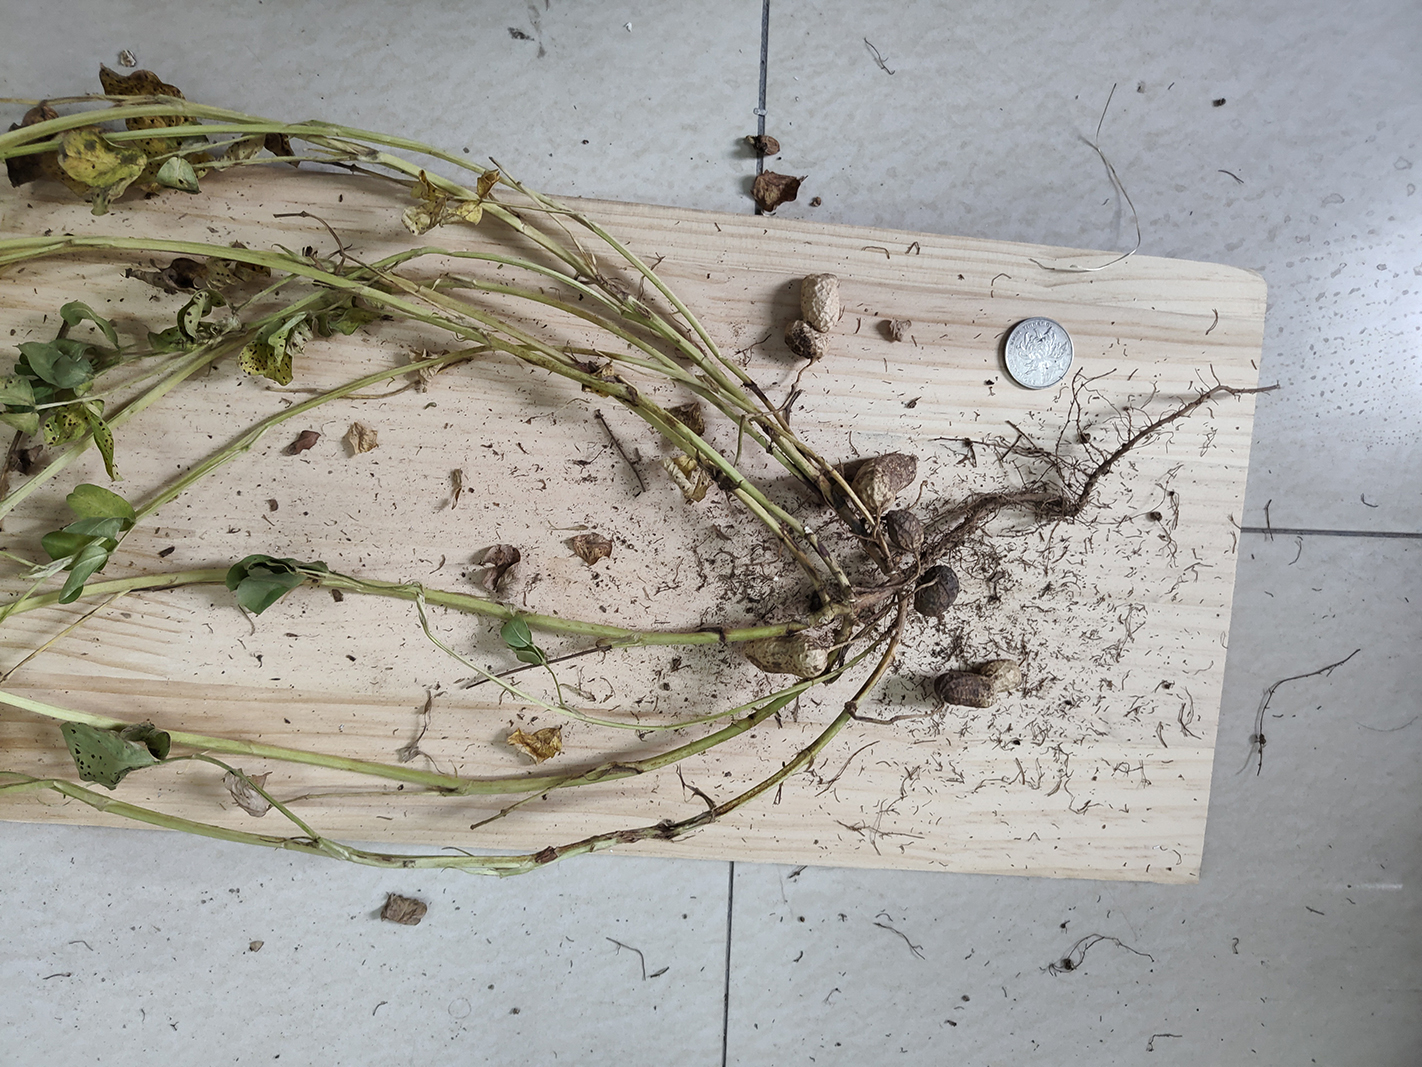h: (782, 275, 842, 359), (746, 635, 827, 677)
l: (852, 452, 920, 516), (935, 661, 1017, 709), (914, 565, 959, 614), (887, 511, 924, 553)
